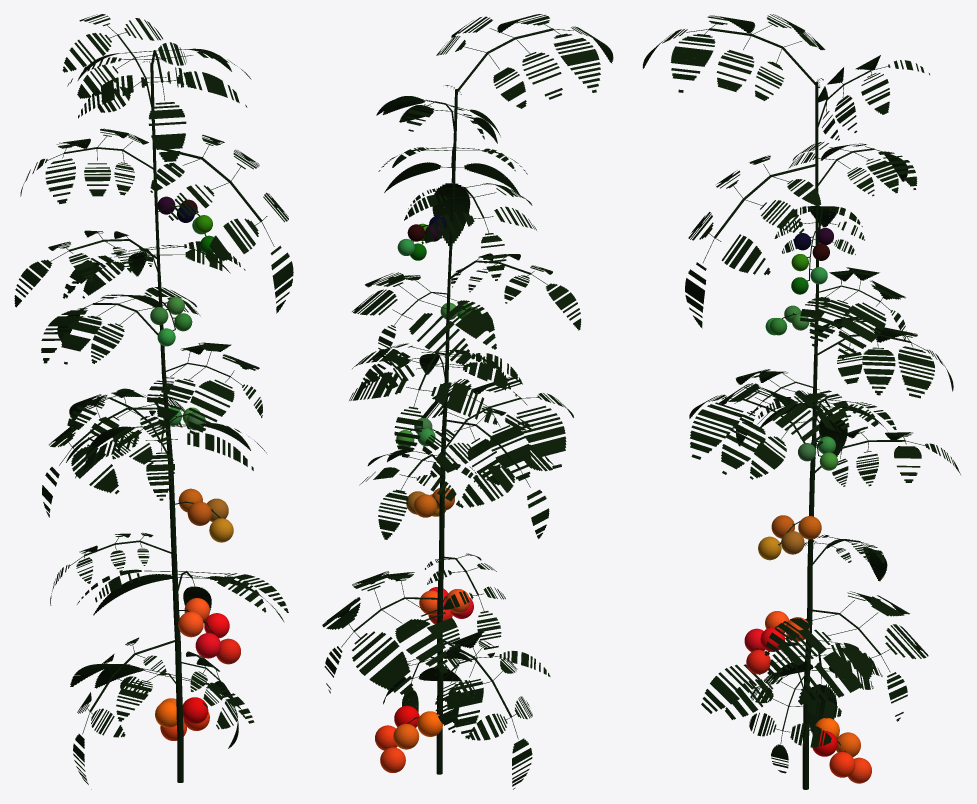
File: Plant_seperatetomatoes.fbx
3 renders of one model, left to right at view 1: azimuth 30°, elevation 25°; view 2: azimuth 150°, elevation 25°; view 3: azimuth 270°, elevation 25°, orthographic. The views are drawn at different scales.
Visible parts, largest first — view 1: plant0_hd; view 2: plant0_hd; view 3: plant0_hd.
Boxes of the visible parts, box(x1,y1,x2,y2) form: plant0_hd: box(14, 14, 293, 789); plant0_hd: box(322, 14, 613, 789); plant0_hd: box(642, 14, 960, 789).
Bounding box in the file's own units: 58.92 × 164 × 65.12.
